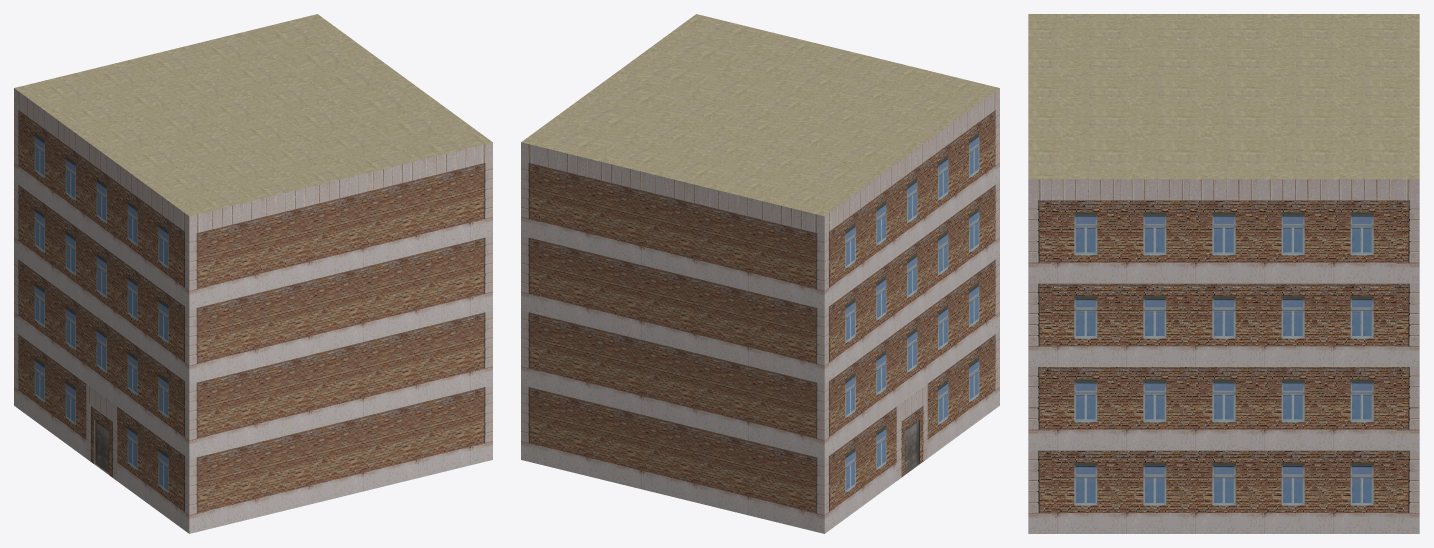
File: flat_square_brick.glb
3 views of the same model, side by side, from view 1: azimuth 30°, elevation 25°; view 2: azimuth 150°, elevation 25°; view 3: azimuth 270°, elevation 25° (orthographic). The views are drawn at different scales.
Visible parts, largest first — view 1: flat_square_brick; view 2: flat_square_brick; view 3: flat_square_brick.
Boxes of the visible parts, x1,y1,x2,y2 form: flat_square_brick: [14, 14, 492, 533]; flat_square_brick: [521, 14, 999, 533]; flat_square_brick: [1028, 14, 1419, 533].
Bounding box in the file's own units: 17 × 17 × 17.
1 material, 1 textured.
